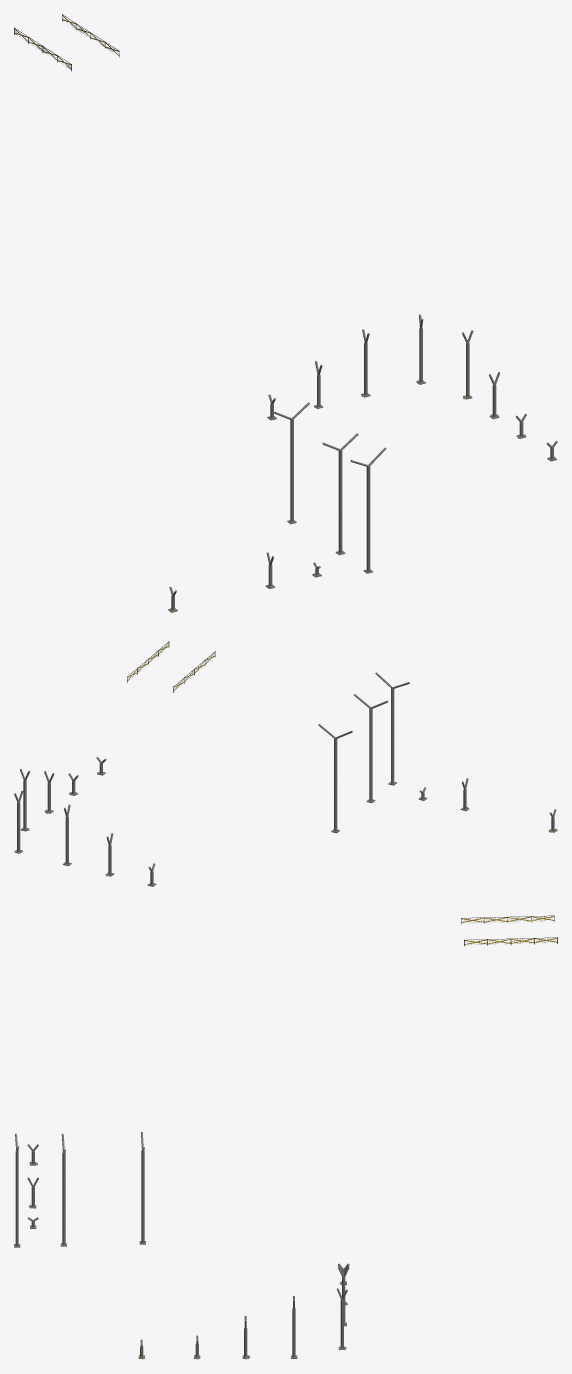
Rendered from soportes_y_senalizacion.obj.
The picture shows the model from 3 angles, top to bottom: view 1: azimuth 30°, elevation 25°; view 2: azimuth 150°, elevation 25°; view 3: azimuth 270°, elevation 25°; orthographic projection. The views are drawn at different scales.
Parts seen in each view (by area): view 1: no part large enough to name; view 2: Pilar_Y_002, Pilar_Y_000, Pilar_Y_001; view 3: no part large enough to name.
Part boxes in pixels (box(x1,y1,x2,y2)): Pilar_Y_002: box(375, 672, 409, 785); Pilar_Y_000: box(318, 724, 352, 833); Pilar_Y_001: box(354, 694, 388, 803).
Bounding box in the file's own units: 325 × 235 × 379.
Materials: 4 (3 with a texture image).
